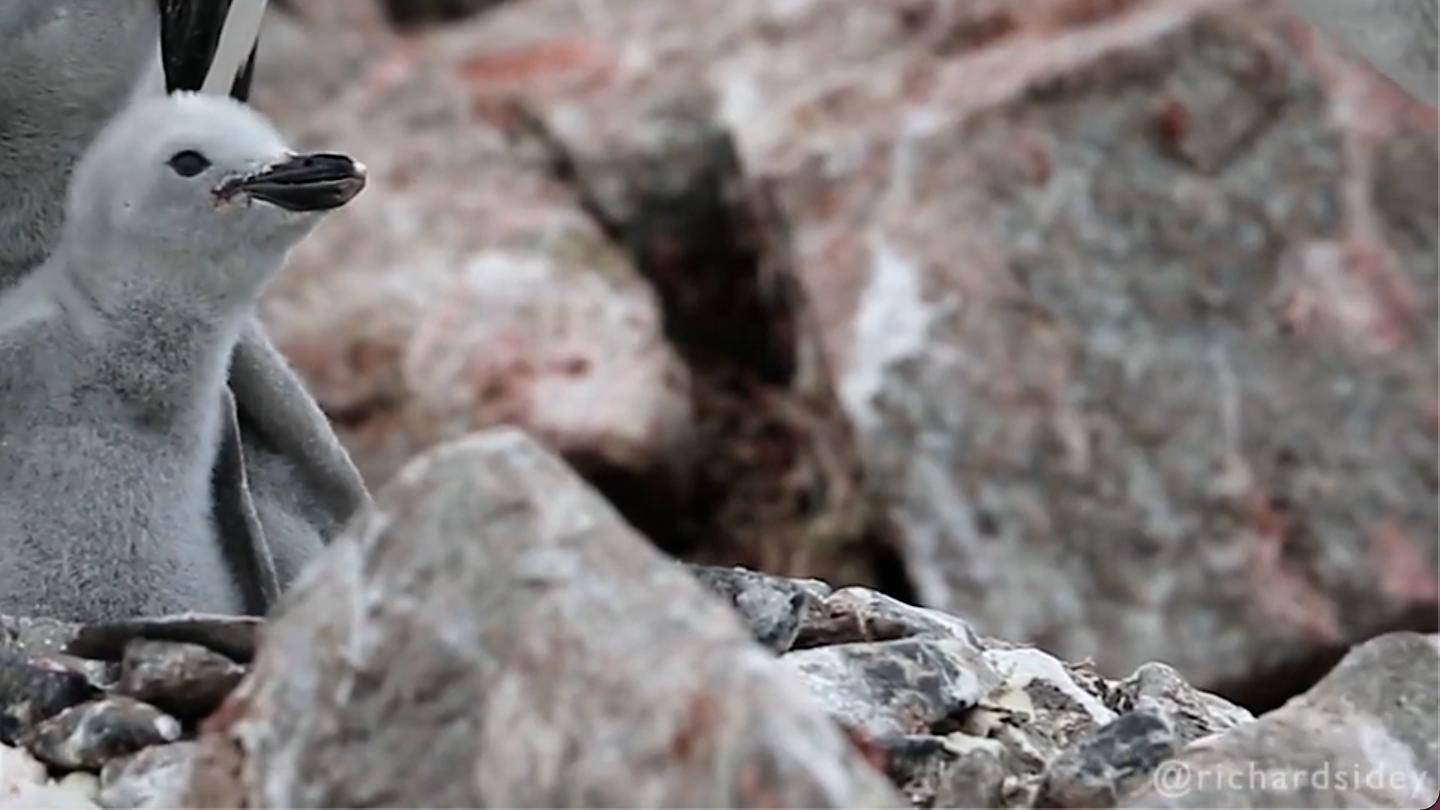Chinstrap Penguin: (0, 0, 623, 583), (763, 0, 1440, 156)
